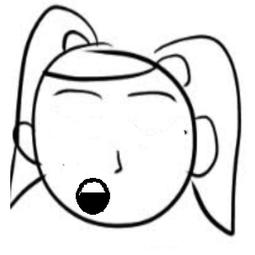ear: (189, 112, 225, 178), (9, 119, 47, 166)
eyebrow: (48, 86, 105, 102), (122, 90, 180, 103)
open_mouth: (75, 174, 114, 220)
pointy_nose: (108, 147, 130, 180)
